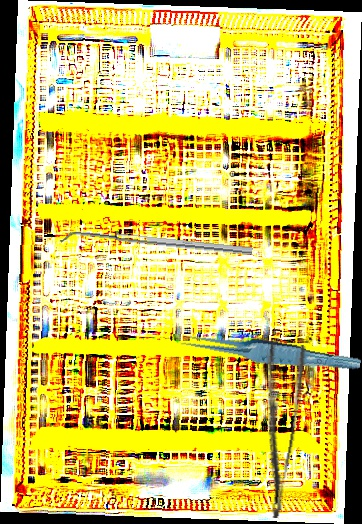Dressing Forceps: (241, 339, 310, 520)
Spatula Surgical: (60, 227, 253, 263)
Tissue Forceps: (177, 319, 362, 384)
